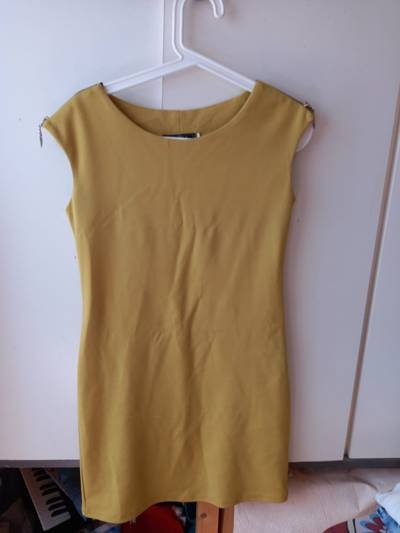Dress: (21, 62, 345, 511)
